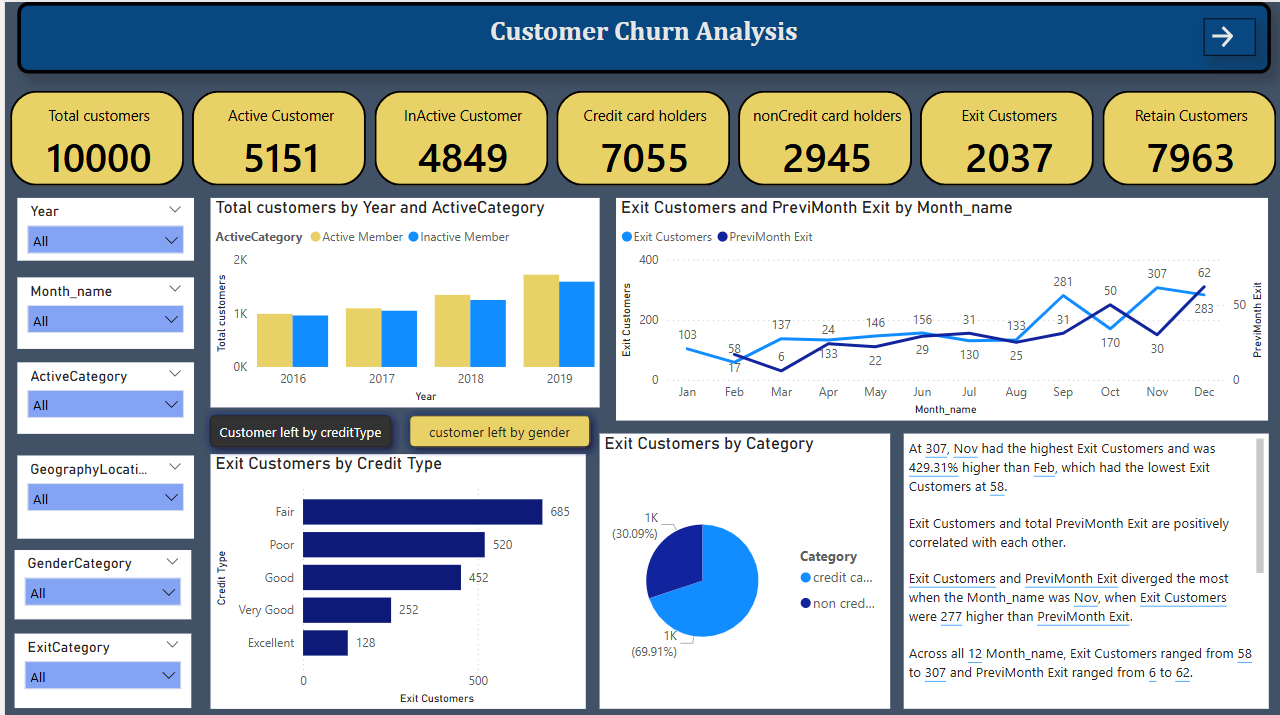

The page's visual inventory and layout, read from the dashboard file:
{"tool":"powerbi","page":{"name":"HomePage","canvas":[1280,720],"ordinal":0},"visuals":[{"type":"textbox","box":[11.9,0,1253.1,71.3],"z":0},{"type":"cardVisual","fields":{"Data":["Calculation.Total customers","Calculation.Active Customer","Calculation.InActive Customer","Calculation.Total Credit card holders","Calculation.nonCredit card holders","Calculation.Exit Customers","Calculation.Retain Customers"]},"box":[0,83.2,1280.3,105.3],"z":1000},{"type":"slicer","fields":{"Values":["DateMaster.Year"]},"box":[11.9,195.3,176.6,62.8],"z":2000},{"type":"clusteredColumnChart","fields":{"Y":["Calculation.Total customers"],"Category":["DateMaster.Year","DateMaster.Month_name"],"Series":["ActiveCustomer.ActiveCategory"]},"box":[205.4,195.9,389,209.6],"z":3000},{"type":"slicer","fields":{"Values":["DateMaster.Month_name"]},"box":[11.9,275.1,176.6,71.3],"z":4000},{"type":"slicer","fields":{"Values":["ActiveCustomer.ActiveCategory"]},"box":[11.9,360,176.6,71.3],"z":5000},{"type":"slicer","fields":{"Values":["Geography.GeographyLocation"]},"box":[11.9,453.4,176.6,83.2],"z":6000},{"type":"slicer","fields":{"Values":["Gender.GenderCategory"]},"box":[10.2,548.5,176.6,69.6],"z":7000},{"type":"slicer","fields":{"Values":["ExitCustomer.ExitCategory"]},"box":[10.2,631.7,176.6,74.7],"z":8000},{"type":"lineChart","fields":{"Category":["DateMaster.Month_name"],"Y":["Calculation.Exit Customers"],"Y2":["Calculation.PreviMonth Exit"]},"box":[611.3,195.3,652,222.4],"z":9000},{"type":"clusteredBarChart","fields":{"Y":["Calculation.Exit Customers"],"Category":["Bank_Churn.Credit Type"]},"box":[205.4,452,375.3,254.8],"z":11000},{"type":"pieChart","fields":{"Category":["CreditCard.Category"],"Y":["Calculation.Exit Customers"]},"box":[594.3,431.3,290.4,275.1],"z":12000},{"type":"textbox","box":[898.2,431.3,365.1,275.1],"z":13000},{"type":"bookmarkNavigator","box":[195.3,404.1,399,50.9],"z":14000},{"type":"actionButton","box":[1198.4,16.4,52,37],"z":15000}]}

Visuals, with their boxes in screenshot pixels (x1, y1, x2, y2), scaled from the page's 1280x720 canvas onto the 1280x715 screenshot:
textbox: bbox=(12, 0, 1265, 71)
cardVisual - Calculation.Total customers x Calculation.Active Customer: bbox=(0, 83, 1279, 187)
slicer - DateMaster.Year: bbox=(12, 194, 188, 256)
clusteredColumnChart - Calculation.Total customers x DateMaster.Year: bbox=(205, 195, 594, 403)
slicer - DateMaster.Month_name: bbox=(12, 273, 188, 344)
slicer - ActiveCustomer.ActiveCategory: bbox=(12, 358, 188, 428)
slicer - Geography.GeographyLocation: bbox=(12, 450, 188, 533)
slicer - Gender.GenderCategory: bbox=(10, 545, 187, 614)
slicer - ExitCustomer.ExitCategory: bbox=(10, 627, 187, 701)
lineChart - DateMaster.Month_name x Calculation.Exit Customers: bbox=(611, 194, 1263, 415)
clusteredBarChart - Calculation.Exit Customers x Bank_Churn.Credit Type: bbox=(205, 449, 581, 702)
pieChart - CreditCard.Category x Calculation.Exit Customers: bbox=(594, 428, 885, 701)
textbox: bbox=(898, 428, 1263, 701)
bookmarkNavigator: bbox=(195, 401, 594, 452)
actionButton: bbox=(1198, 16, 1250, 53)
